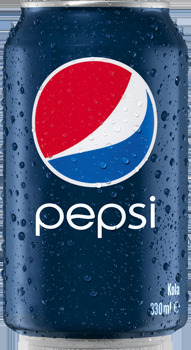pepsi: (1, 2, 188, 337)
